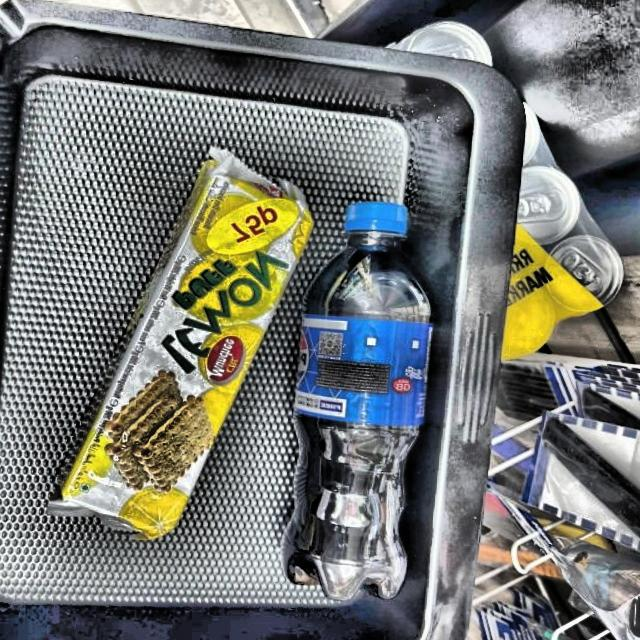lemon puff: (63, 149, 308, 539)
pepsi-bottle: (285, 193, 419, 598)
